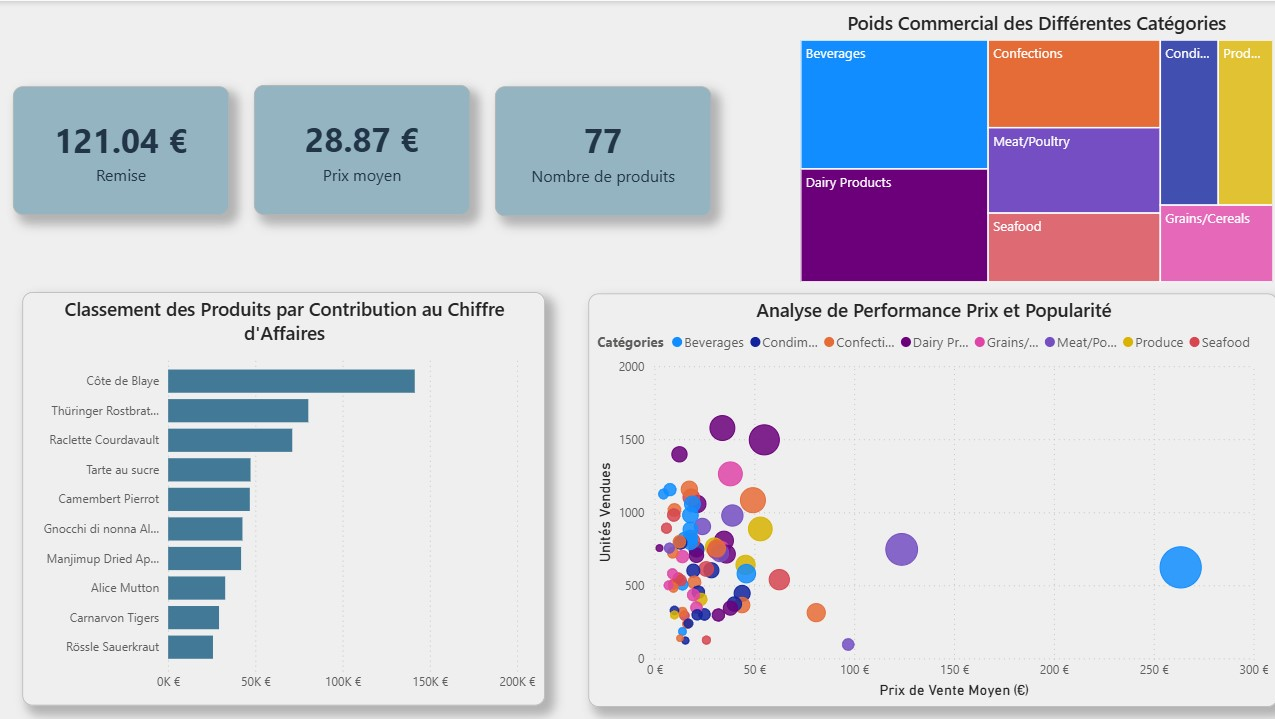

The dashboard page shown, as its layout file describes it:
{"tool":"powerbi","page":{"name":"Page 4","canvas":[1280,720],"ordinal":1},"visuals":[{"type":"card","fields":{"Values":["Avg(Dim_Produit.Prix_Unitaire)"]},"box":[256.7,83.3,216.7,130],"z":0},{"type":"card","fields":{"Values":["Sum(Fact_Ventes.Remise)"]},"box":[15,85,216.7,128.3],"z":1000},{"type":"treemap","title":"Poids Commercial des Différentes Catégories","fields":{"Group":["Dim_Produit.Nom_Categorie"],"Values":["Sum(Fact_Ventes.Montant)"]},"box":[798,9.5,482.3,276.4],"z":3000},{"type":"scatterChart","title":"Analyse de Performance Prix et Popularité","fields":{"X":["Dim_Produit.Prix_Unitaire"],"Y":["Sum(Fact_Ventes.Quantity)"],"Series":["Dim_Produit.Nom_Categorie"],"Category":["Dim_Produit.Nom_Produit"],"Size":["Sum(Fact_Ventes.Montant)"]},"box":[590.7,292.7,689.6,413.2],"z":4000},{"type":"card","fields":{"Values":["Count(Dim_Produit.ID_Produit)"]},"box":[496.7,85,216.7,130],"z":5000},{"type":"clusteredBarChart","title":"Classement des Produits par Contribution au Chiffre d''Affaires","fields":{"Y":["Sum(Fact_Ventes.Montant)"],"Category":["Dim_Produit.Nom_Produit"]},"box":[24.4,291.3,523,413.2],"z":7000}]}

Visuals, with their boxes in screenshot pixels (x1, y1, x2, y2), scaled from the page's 1280x720 canvas onto the 1275x719 screenshot:
card - Avg(Dim_Produit.Prix_Unitaire): select_region(256, 83, 472, 213)
card - Sum(Fact_Ventes.Remise): select_region(15, 85, 231, 213)
"Poids Commercial des Différentes Catégories" treemap: select_region(795, 9, 1274, 286)
"Analyse de Performance Prix et Popularité" scatterChart: select_region(588, 292, 1274, 705)
card - Count(Dim_Produit.ID_Produit): select_region(495, 85, 711, 215)
"Classement des Produits par Contribution au Chiffre d''Affaires" clusteredBarChart: select_region(24, 291, 545, 704)
